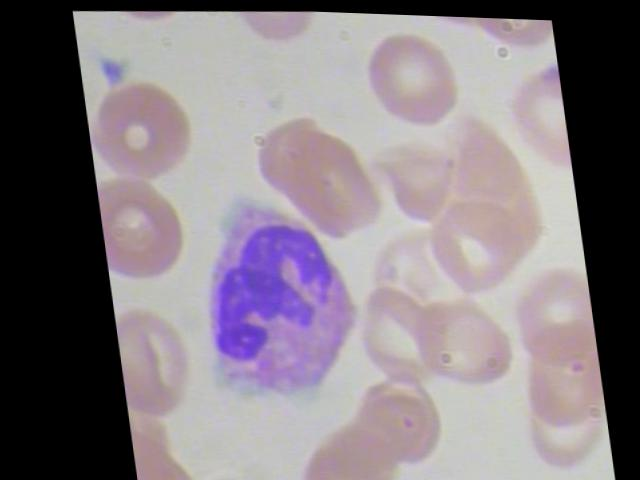Platelets: (90, 52, 133, 89)
Red Blood Cells: (243, 102, 384, 241), (81, 70, 201, 188), (352, 22, 463, 130), (413, 192, 525, 297), (402, 288, 513, 393), (92, 169, 188, 285), (107, 300, 197, 419), (495, 257, 591, 362), (338, 362, 434, 466), (504, 326, 599, 431), (121, 420, 200, 479), (234, 7, 324, 43), (465, 14, 556, 49)
White Blood Cells: (170, 168, 365, 410)
